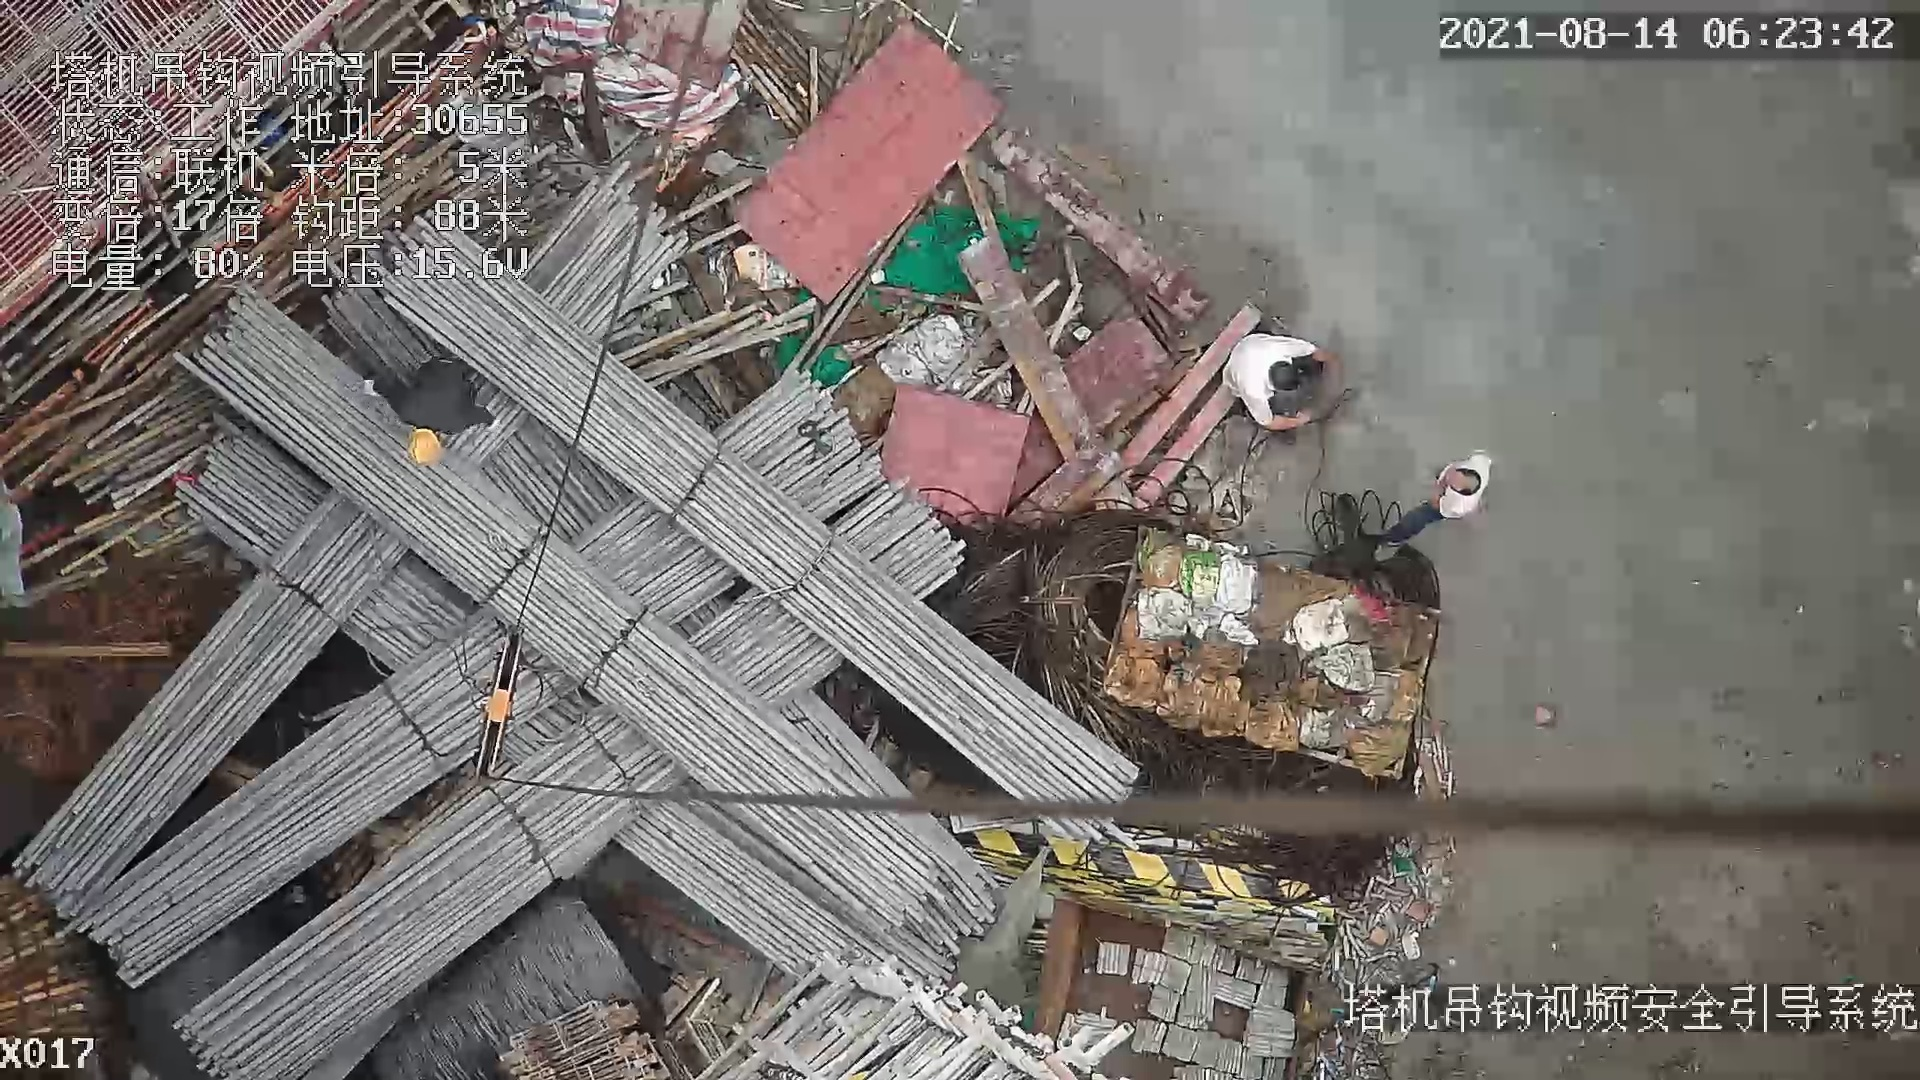helmet: (408, 426, 443, 468)
hook: (473, 615, 527, 790)
person: (355, 358, 500, 465), (1219, 333, 1356, 440), (1386, 436, 1495, 547)
rebar: (201, 291, 947, 919), (359, 277, 1132, 843), (176, 699, 690, 1080), (77, 626, 574, 984), (19, 485, 409, 915)
wood: (1, 877, 108, 1032)
